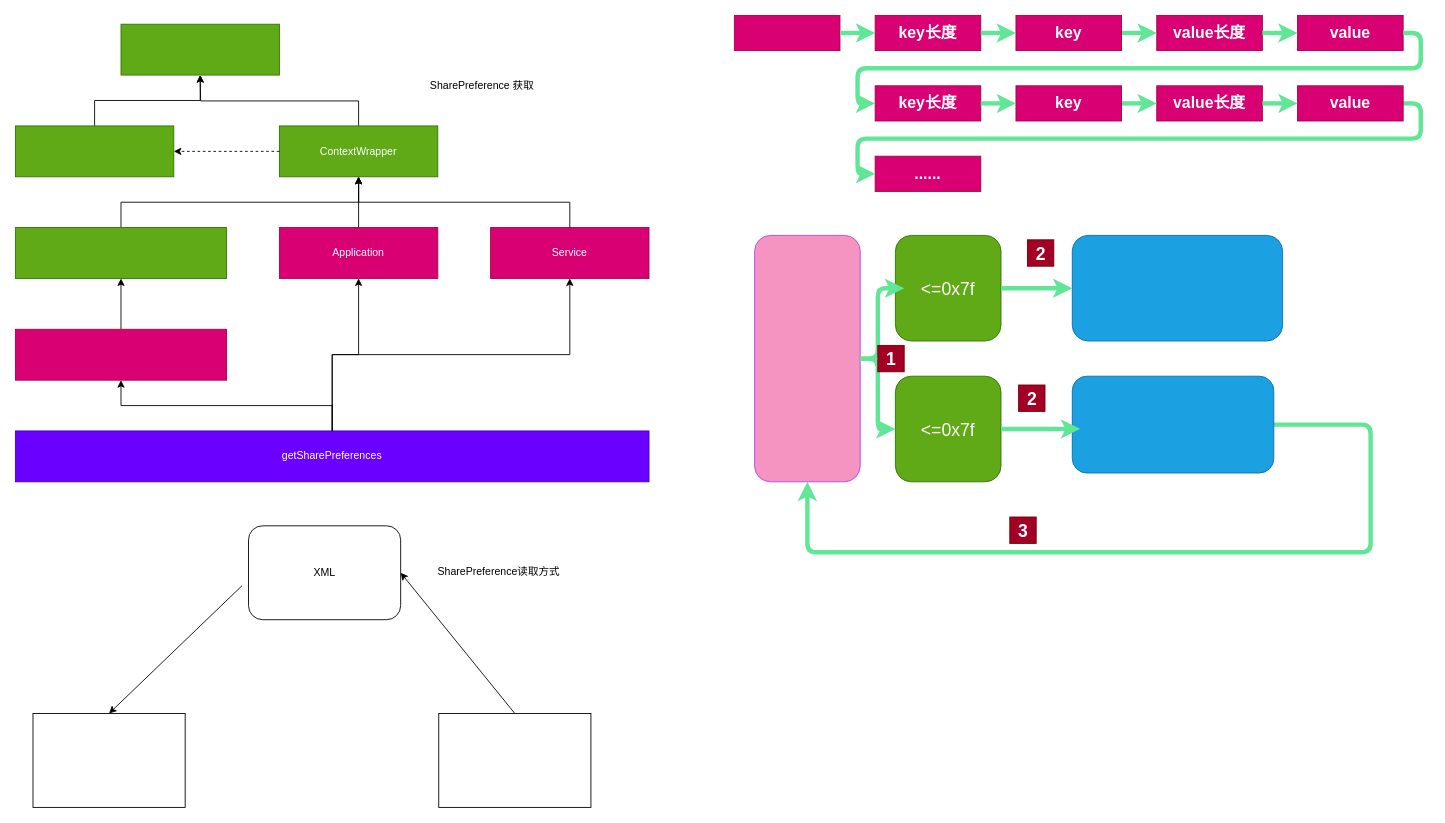
Some shapes in this 1445 by 823 pixel diagram are drawn without their labels. The box of each missing label's shape, as (x1, y1, x2, y2) in pixels:
Activity: (15, 328, 227, 380)
Context: (120, 23, 279, 75)
ContextImpl: (15, 125, 174, 177)
ContextThemeWrapper: (15, 227, 227, 278)
FileinputStream: (32, 713, 185, 807)
FileOutputStream: (438, 713, 591, 807)
保存数据: (754, 235, 860, 482)
写入: (1071, 235, 1283, 341)
写入低7位 将前1位设为1 >>7位继续处理高位数据: (1071, 375, 1274, 473)
总长度: (733, 15, 840, 51)
